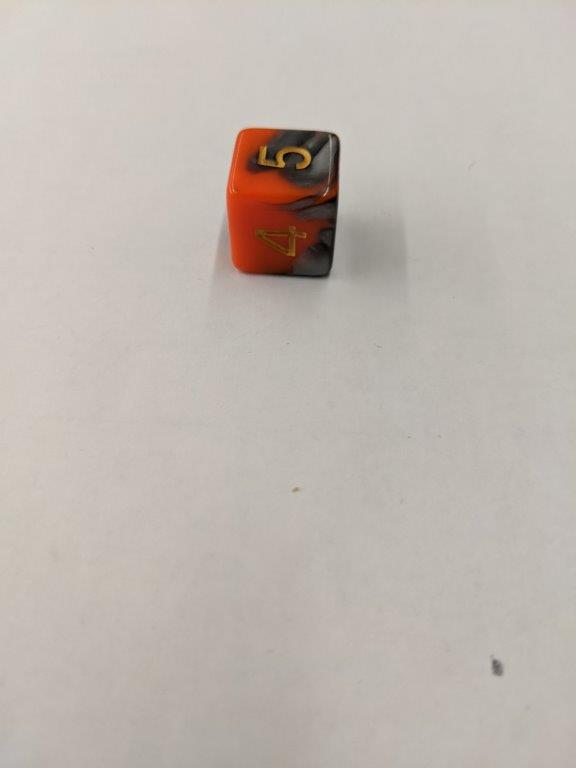d6-5: (229, 126, 338, 279)
